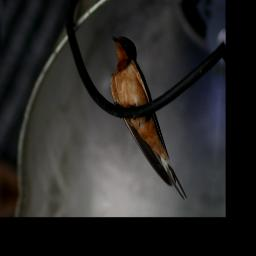Swallow: (98, 30, 201, 202)
